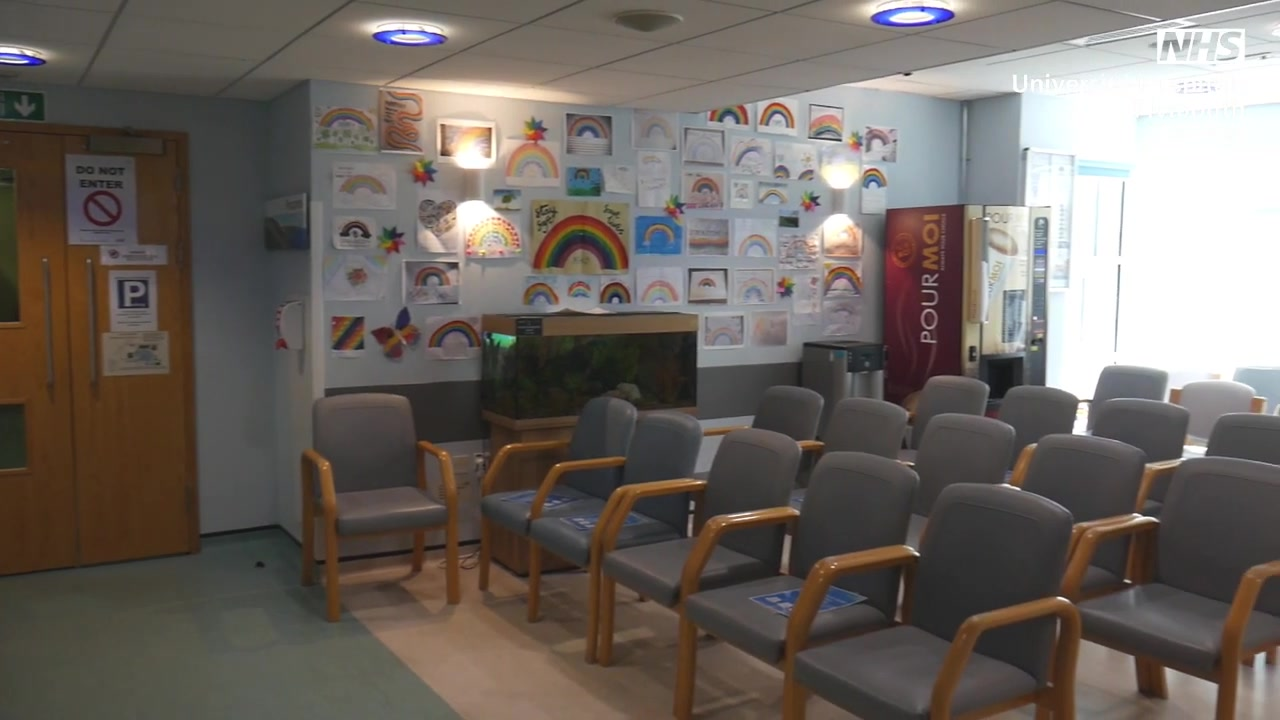chair: (782, 476, 1098, 720), (669, 445, 925, 720), (608, 418, 812, 717), (1078, 448, 1280, 720), (521, 407, 706, 654), (474, 391, 641, 625), (1007, 437, 1150, 706), (299, 391, 462, 622), (699, 377, 832, 459), (909, 409, 1024, 494), (1089, 392, 1191, 465), (1160, 378, 1280, 436), (819, 392, 913, 457), (994, 384, 1083, 444), (912, 371, 993, 434), (1191, 413, 1280, 467), (1090, 360, 1170, 414)
counter: (483, 310, 699, 446)
dispenser: (271, 297, 306, 355)
handle: (39, 255, 55, 390), (87, 255, 100, 387)
